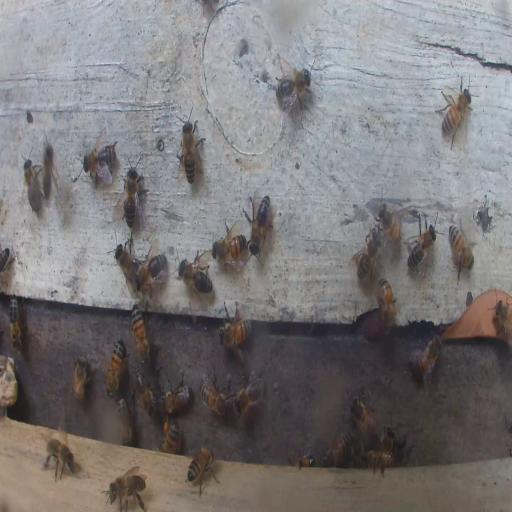nonpollenbee: (437, 81, 473, 144), (404, 215, 440, 274), (176, 107, 202, 187), (408, 334, 444, 388), (275, 62, 312, 110), (81, 138, 120, 183), (447, 220, 476, 280), (108, 467, 147, 511), (186, 444, 218, 496), (246, 194, 273, 255), (351, 228, 383, 279), (213, 224, 251, 266), (179, 252, 213, 298), (232, 372, 265, 418), (374, 196, 402, 248), (45, 431, 74, 481), (124, 162, 145, 228), (134, 251, 166, 293), (22, 153, 43, 214), (114, 242, 139, 290), (218, 313, 252, 348), (200, 381, 231, 418), (350, 392, 376, 436), (105, 338, 125, 395), (320, 432, 352, 466), (162, 380, 192, 416), (134, 367, 156, 415), (133, 304, 150, 366), (378, 277, 398, 327), (39, 140, 55, 201), (0, 355, 19, 406), (365, 448, 397, 472), (72, 354, 88, 402), (390, 434, 414, 462), (9, 295, 21, 347), (118, 397, 131, 443), (350, 437, 365, 467), (383, 429, 398, 451), (296, 453, 316, 468), (0, 248, 11, 274)
pollenbee: (160, 421, 182, 454)
